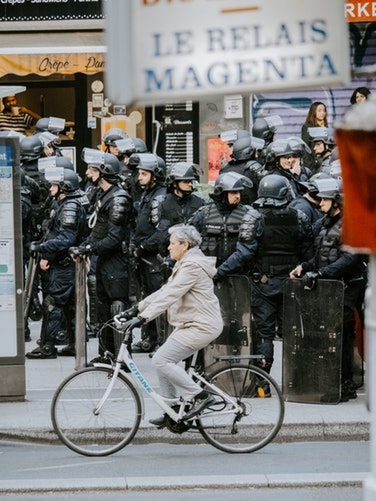helmet: (262, 171, 295, 200), (137, 155, 173, 181), (86, 149, 122, 174), (213, 166, 247, 188), (168, 162, 198, 181), (51, 166, 81, 185)
